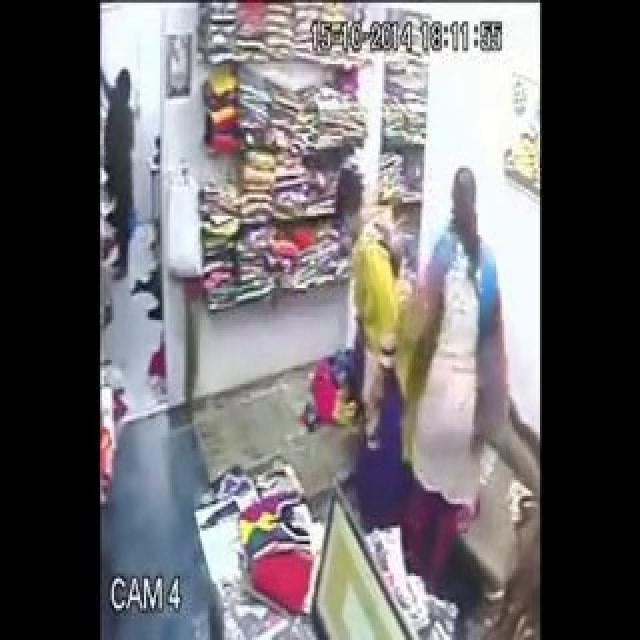Shoplifting: (393, 201, 497, 526)
